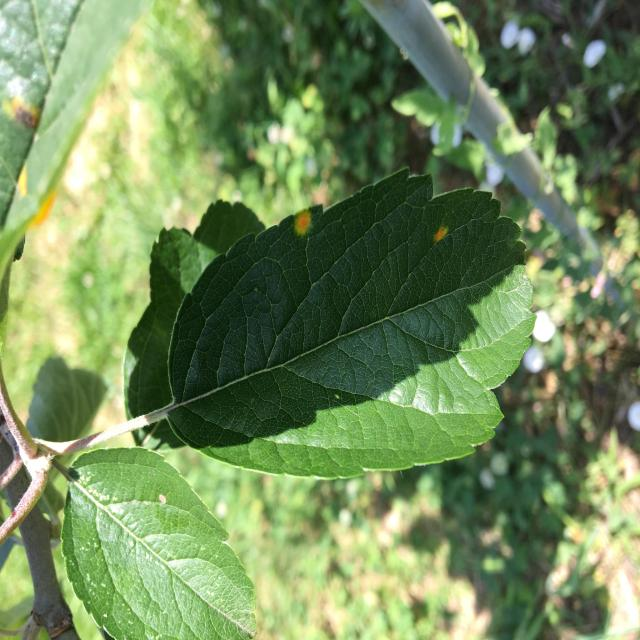Rust: (2, 94, 43, 139), (152, 482, 172, 521), (294, 206, 314, 238), (433, 225, 452, 249)
